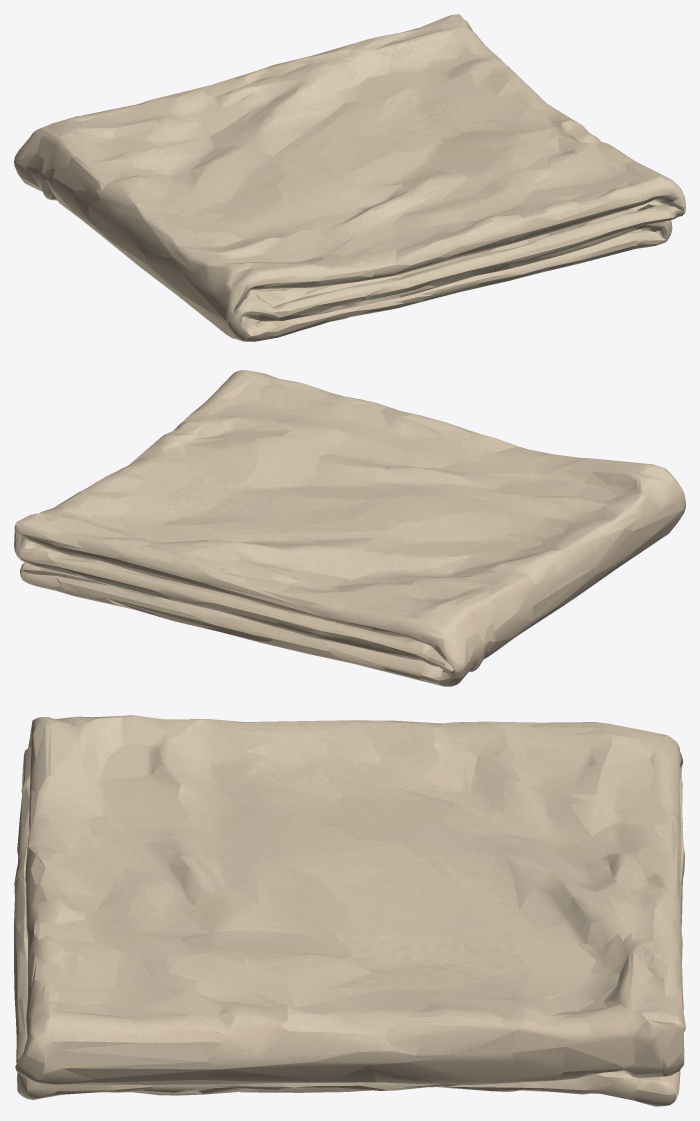
The model's file is e4cloth.glb.
The picture shows the model from 3 angles, top to bottom: view 1: azimuth 30°, elevation 25°; view 2: azimuth 150°, elevation 25°; view 3: azimuth 270°, elevation 25°; orthographic projection. The views are drawn at different scales.
Visible parts, largest first — view 1: output_unwrapped; view 2: output_unwrapped; view 3: output_unwrapped.
Part boxes in pixels (box(x1,y1,x2,y2)): output_unwrapped: box(14, 14, 685, 341); output_unwrapped: box(14, 370, 685, 686); output_unwrapped: box(14, 715, 685, 1106).
Bounding box in the file's own units: 0.26 × 0.0358 × 0.227.
Materials: 1 (1 with a texture image).
